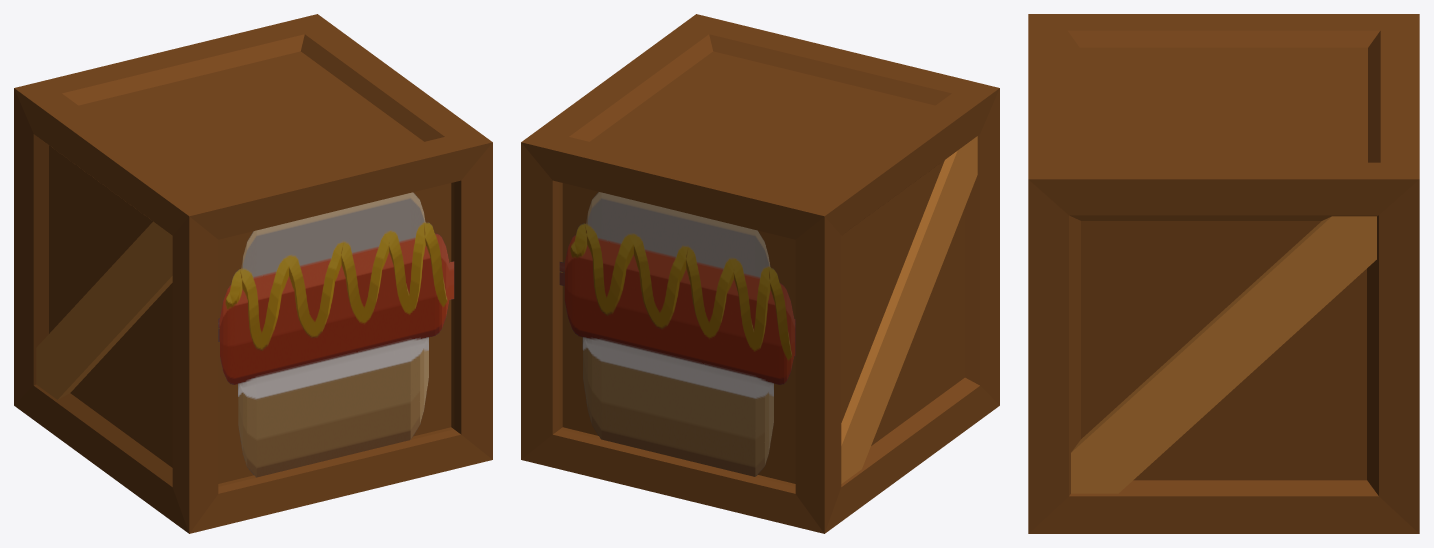
File: CrateHotdog.fbx
The picture shows the model from 3 angles, left to right: view 1: azimuth 30°, elevation 25°; view 2: azimuth 150°, elevation 25°; view 3: azimuth 270°, elevation 25°; orthographic projection. The views are drawn at different scales.
Parts seen in each view (by area): view 1: CrateHotdog, CratePlank.001; view 2: CrateHotdog, CratePlank.001; view 3: CrateHotdog, CratePlank.
Boxes of the visible parts, x1,y1,x2,y2 form: CrateHotdog: (14, 14, 492, 533); CratePlank.001: (36, 221, 172, 399); CrateHotdog: (521, 14, 999, 533); CratePlank.001: (841, 136, 977, 483); CrateHotdog: (1028, 14, 1419, 533); CratePlank: (1071, 216, 1376, 493).
Bounding box in the file's own units: 200 × 200 × 200.
